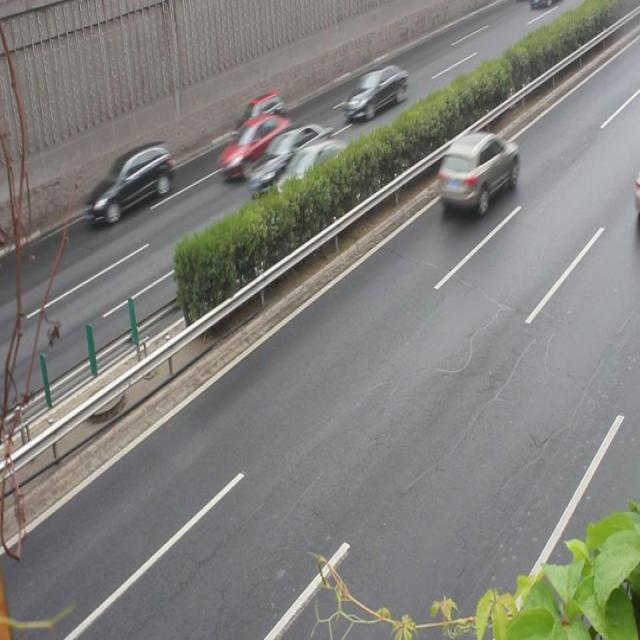car: (86, 142, 170, 224), (438, 133, 518, 217), (265, 140, 355, 212), (247, 125, 330, 191), (216, 112, 292, 184), (233, 91, 282, 142)
